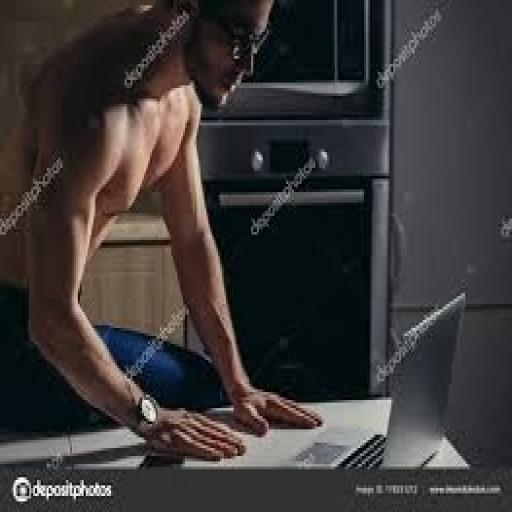using_laptop: (182, 263, 481, 512)
